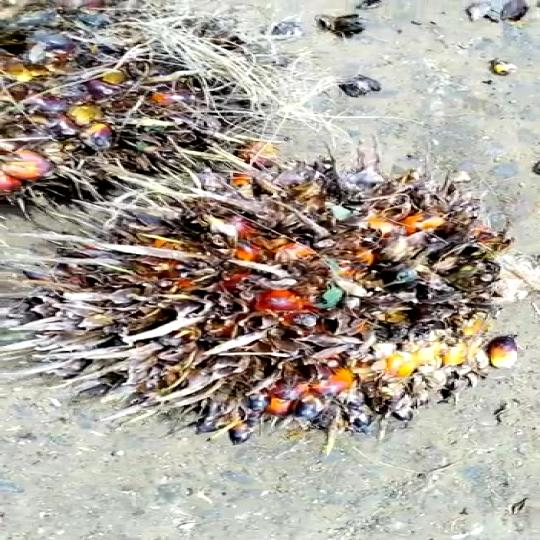terlalu masak: (12, 163, 540, 443)
